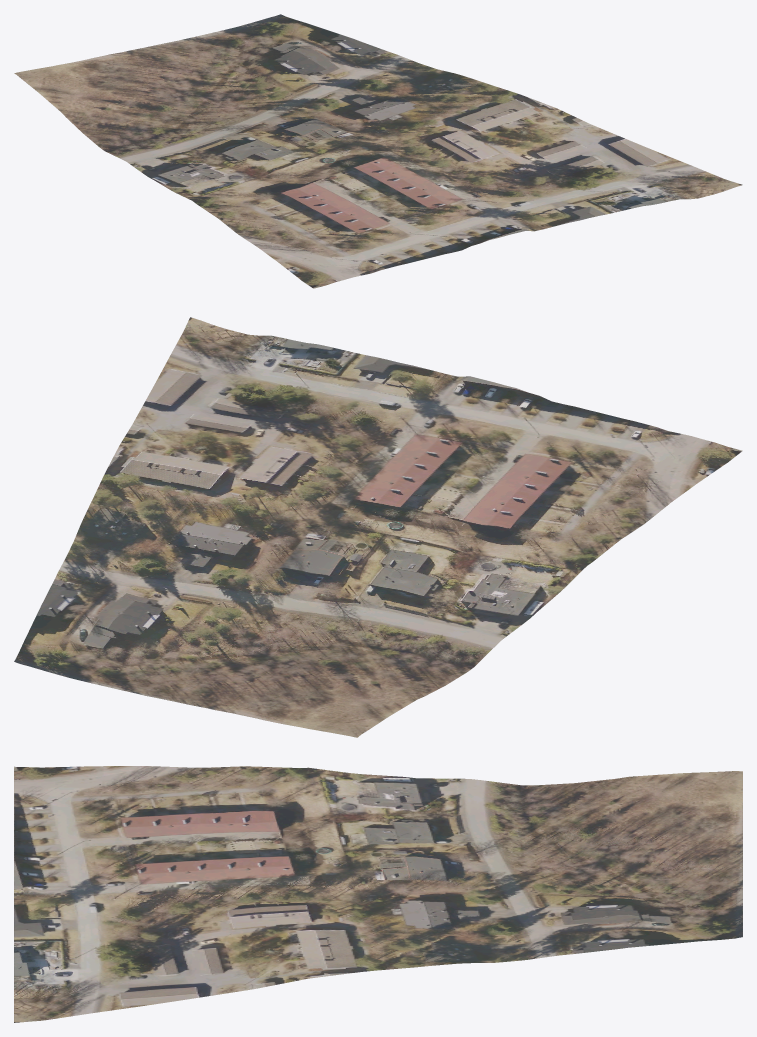
The model's file is CM_Terrain_24491278_6821636.fbx.
The picture shows the model from 3 angles, top to bottom: view 1: azimuth 30°, elevation 25°; view 2: azimuth 150°, elevation 25°; view 3: azimuth 270°, elevation 25°; orthographic projection. The views are drawn at different scales.
Visible parts, largest first — view 1: CM_Terrain_24491278_6821636_LOD0; view 2: CM_Terrain_24491278_6821636_LOD0; view 3: CM_Terrain_24491278_6821636_LOD0.
Boxes of the visible parts, x1=… form: CM_Terrain_24491278_6821636_LOD0: x1=14, y1=14, x2=742, y2=288; CM_Terrain_24491278_6821636_LOD0: x1=14, y1=317, x2=742, y2=737; CM_Terrain_24491278_6821636_LOD0: x1=14, y1=766, x2=742, y2=1022.
Size of what is drawn, in the model's own units: 170 by 8.37 by 205.
